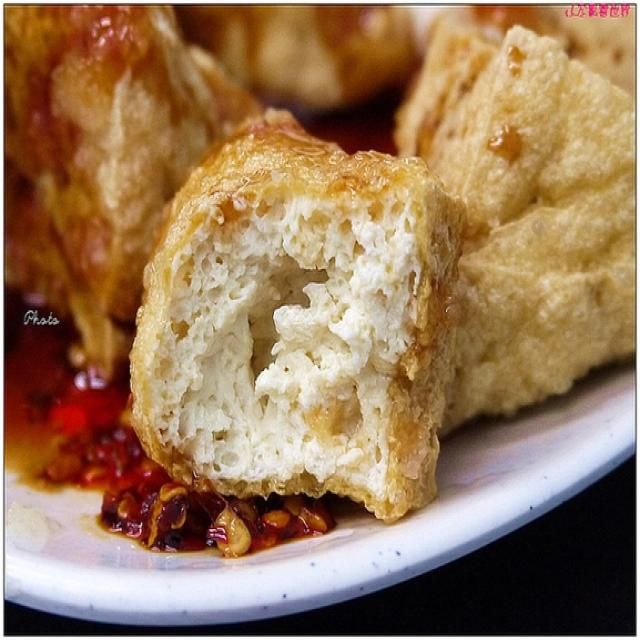豆腐料理: (8, 0, 633, 631)
